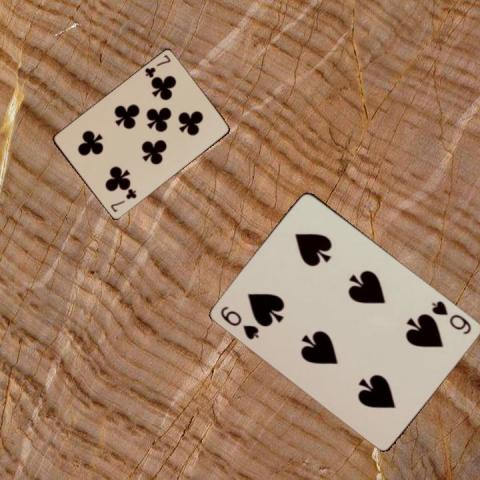6s: (429, 297, 473, 336), (218, 303, 262, 341)
7c: (107, 187, 138, 214), (141, 52, 172, 79)
